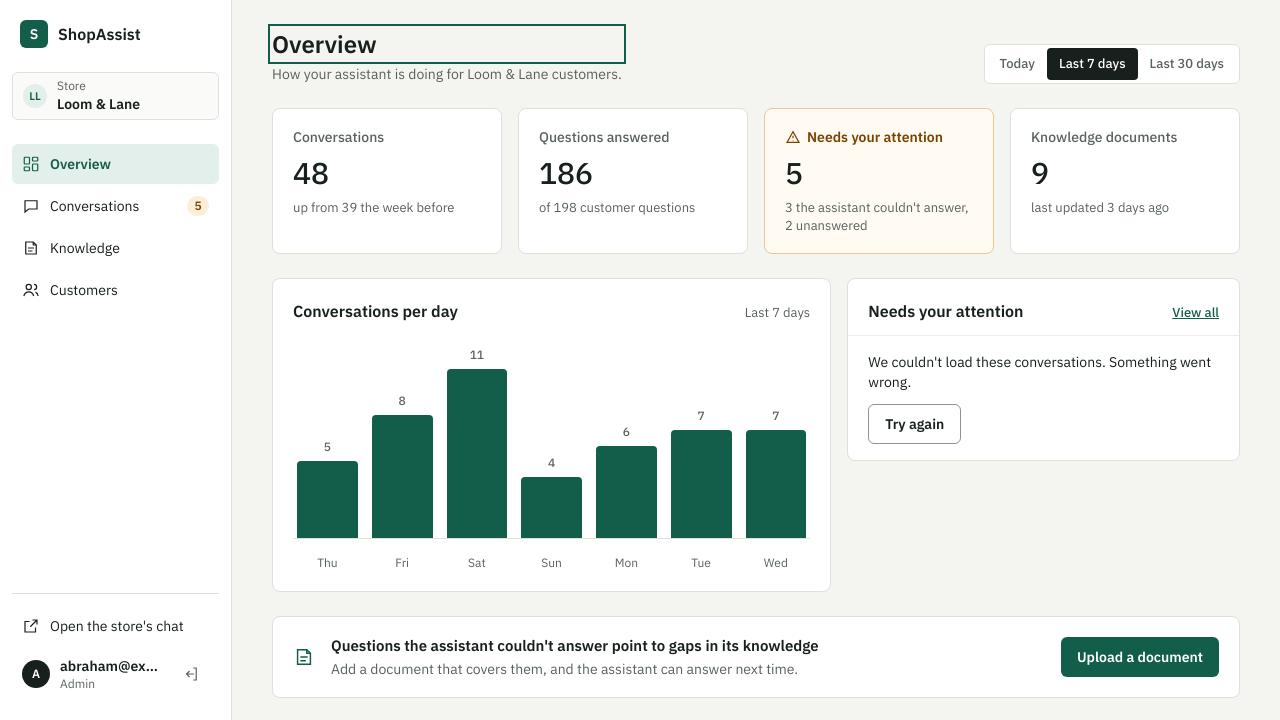
needs your attention › a failed list offers to try again, on its own
The image size is (1280, 720).
Expected: the message shows "We couldn't load these conversations.", [868,353,1109,371]
Expected: the element named "Key numbers" is shown, [272,108,1240,254]
Click the button "Try again".
click(915, 424)  # box [868,404,961,444]
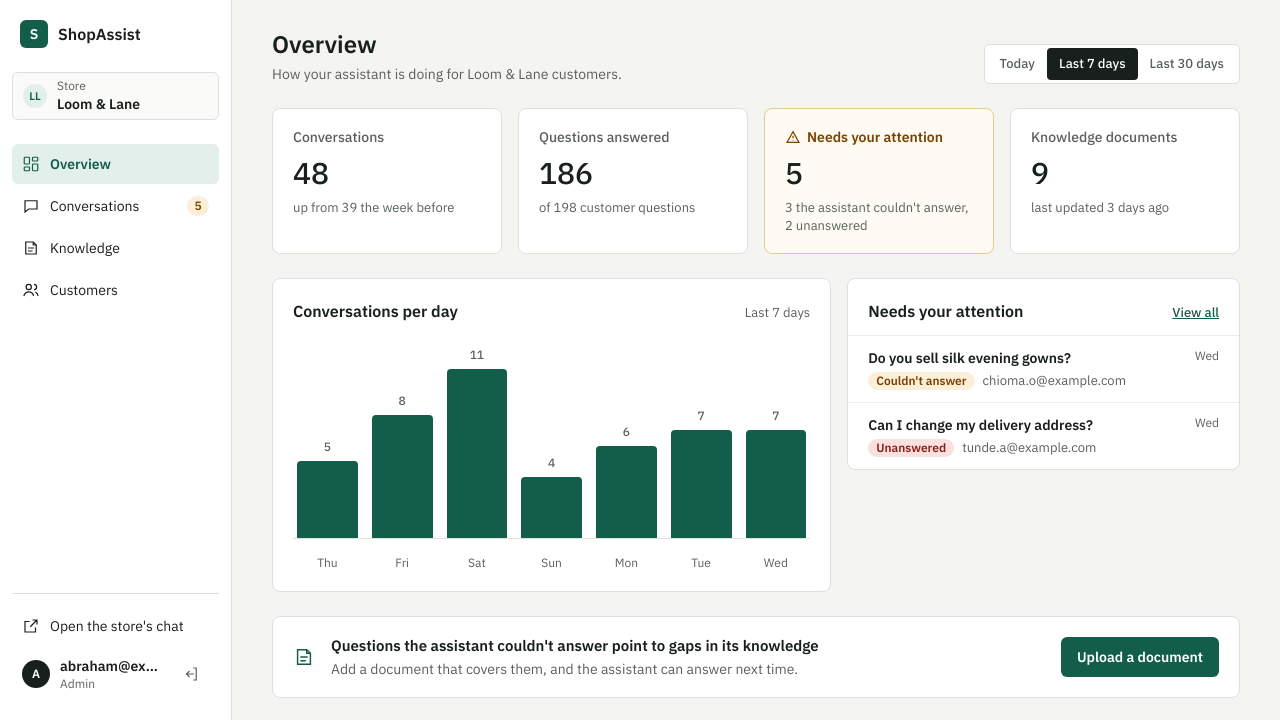
Expected: the link "Do you sell silk evening gowns" is shown, [848,335,1239,402]
